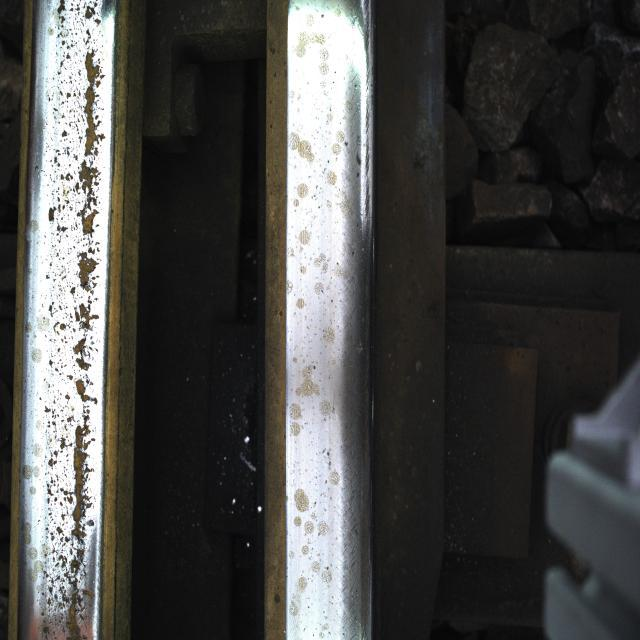scar: (33, 44, 105, 572), (286, 110, 348, 568)
